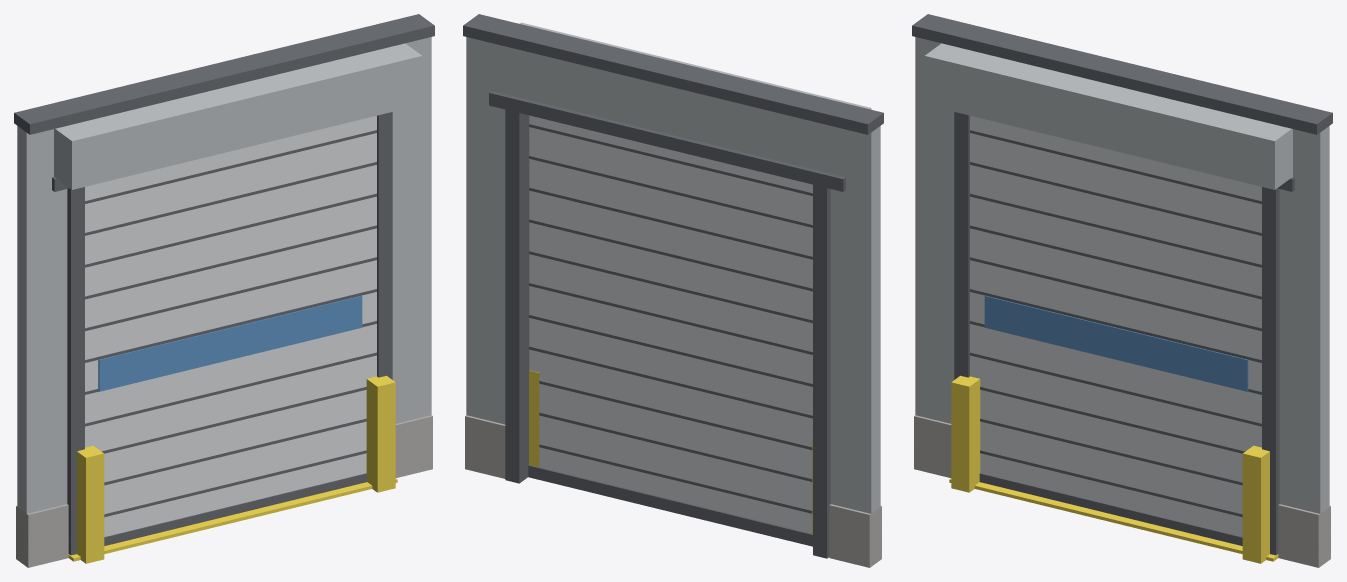
File: roller-shutter-door-module-4-m.glb
3 views of the same model, side by side, from view 1: azimuth 30°, elevation 25°; view 2: azimuth 150°, elevation 25°; view 3: azimuth 330°, elevation 25° (orthographic).
Parts seen in each view (by area): view 1: parcel-depot-and-sorting-hall-roller-shutter-door-module, shutter/steel, shutter/charcoal (×11), shutter/blue; view 2: shutter/steel, parcel-depot-and-sorting-hall-roller-shutter-door-module, shutter/charcoal (×12); view 3: parcel-depot-and-sorting-hall-roller-shutter-door-module, shutter/steel, shutter/charcoal (×11), shutter/blue.
Part boxes in pixels (x1,y1,x2,y2): parcel-depot-and-sorting-hall-roller-shutter-door-module: (14, 14, 434, 567); shutter/steel: (85, 115, 376, 536); shutter/charcoal (×11): (85, 130, 376, 545); shutter/blue: (98, 295, 362, 391); shutter/steel: (529, 115, 812, 533); parcel-depot-and-sorting-hall-roller-shutter-door-module: (463, 14, 883, 567); shutter/charcoal (×12): (528, 124, 812, 546); parcel-depot-and-sorting-hall-roller-shutter-door-module: (912, 14, 1332, 567); shutter/steel: (970, 115, 1261, 536); shutter/charcoal (×11): (970, 130, 1261, 545); shutter/blue: (984, 295, 1248, 391).
Size of the model in its own units: 4 by 4.2 by 0.525.
6 materials, 1 textured.
